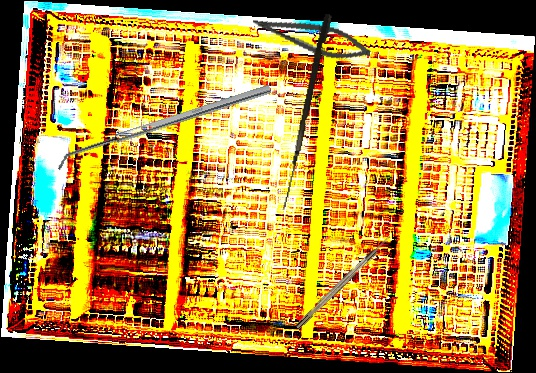Hook Surgical: (282, 12, 333, 213), (294, 234, 393, 330)
Micro Scissor: (249, 10, 374, 67)
Spatula Surgical: (53, 84, 275, 172)
